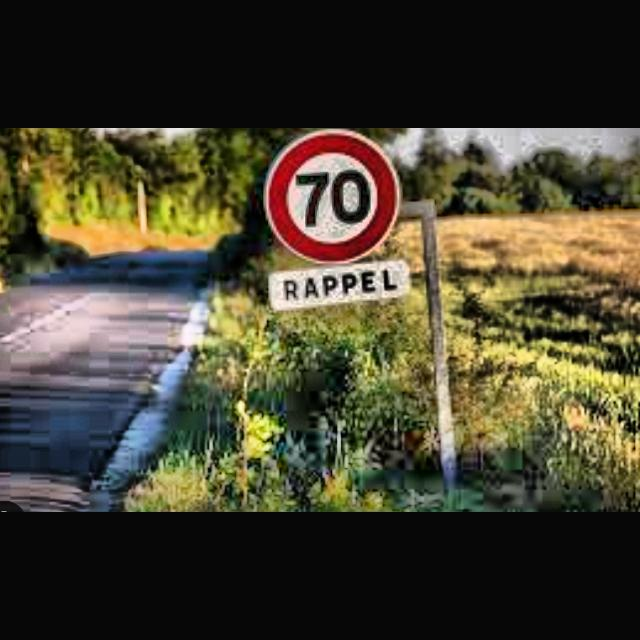speed_70: (263, 128, 403, 264)
